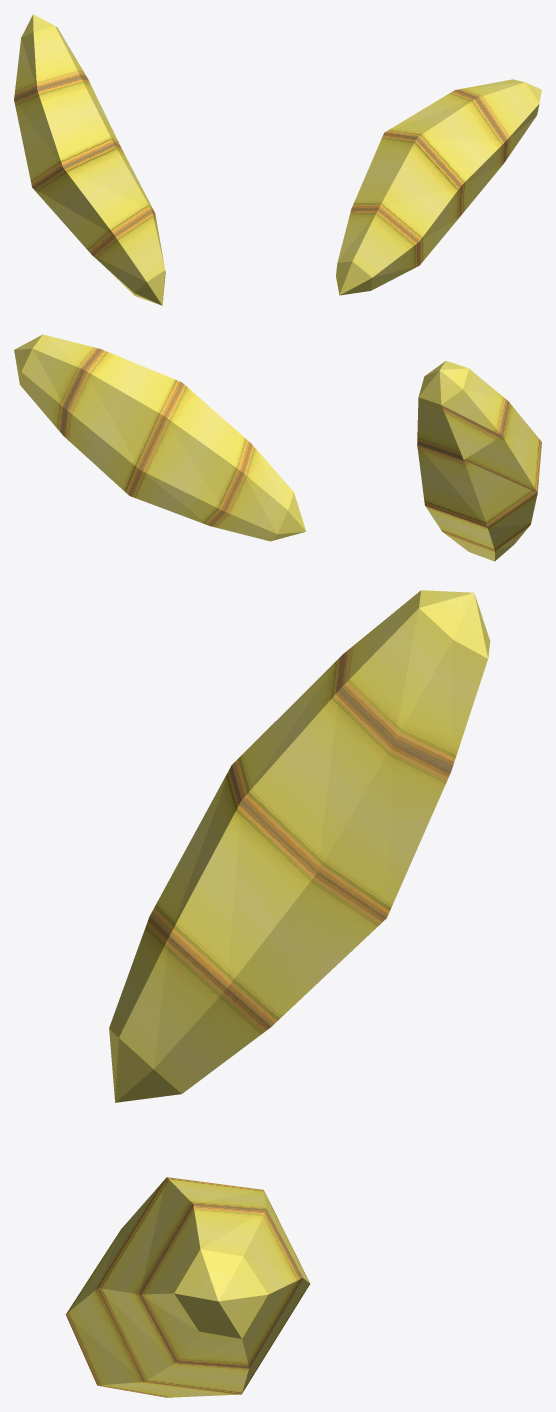
Rendered from BR_Dustox-Shiny03.obj.
The picture shows the model from 3 angles, top to bottom: view 1: azimuth 30°, elevation 25°; view 2: azimuth 150°, elevation 25°; view 3: azimuth 270°, elevation 25°; orthographic projection. The views are drawn at different scales.
Parts seen in each view (by area): view 1: dokucale_f_c; view 2: dokucale_f_c; view 3: dokucale_f_c.
Boxes of the visible parts, x1,y1,x2,y2 form: dokucale_f_c: (14, 14, 541, 305); dokucale_f_c: (14, 334, 541, 561); dokucale_f_c: (65, 590, 490, 1397).
Size of the model in its own units: 5.21 by 2.78 by 1.96.
1 material, 1 textured.
